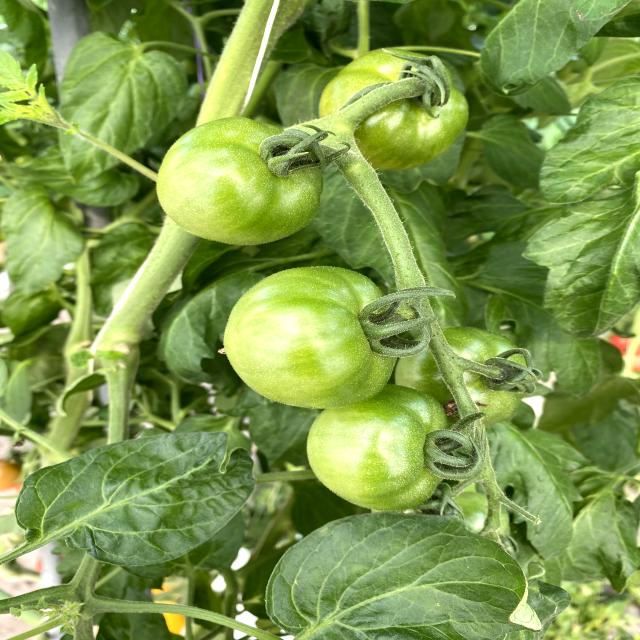ripe0: (226, 263, 403, 410), (159, 117, 325, 245), (322, 49, 474, 169), (306, 394, 455, 515)
